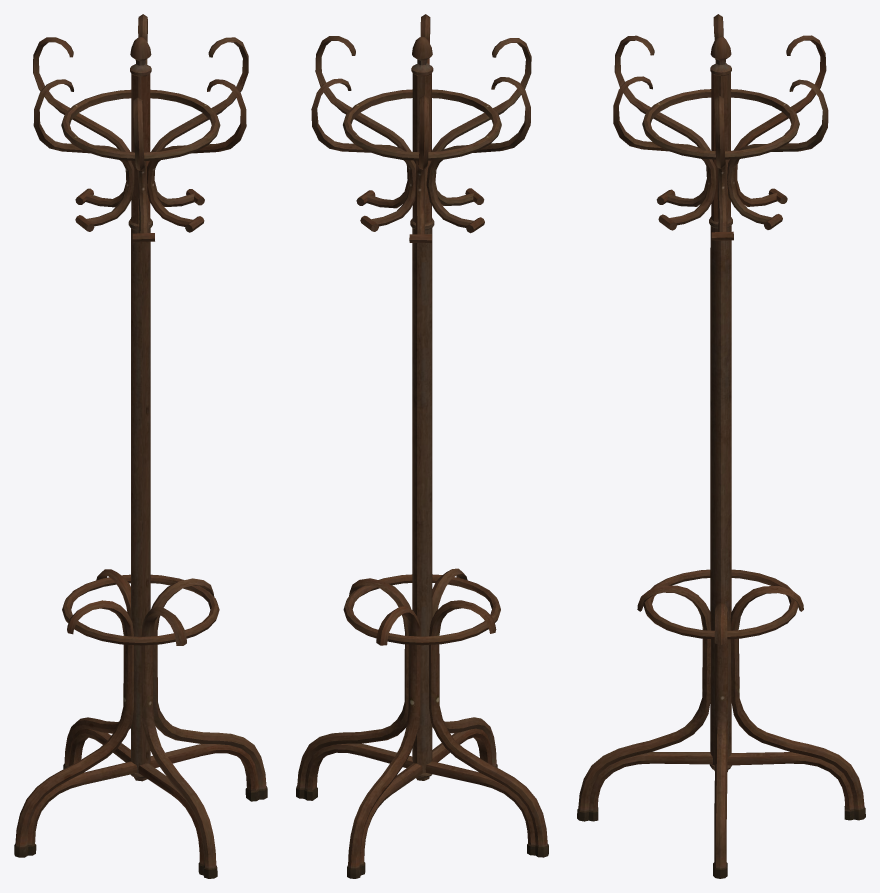
File: coat-stand.glb
The picture shows the model from 3 angles, left to right: view 1: azimuth 30°, elevation 25°; view 2: azimuth 150°, elevation 25°; view 3: azimuth 270°, elevation 25°; orthographic projection.
Visible parts, largest first — view 1: coat-stand; view 2: coat-stand; view 3: coat-stand.
Boxes of the visible parts, x1,y1,x2,y2 form: coat-stand: (14,14,267,878); coat-stand: (296,14,548,878); coat-stand: (577,14,865,878).
Size of the model in its own units: 0.6428 by 1.92 by 0.6447.
Materials: 1 (1 with a texture image).
